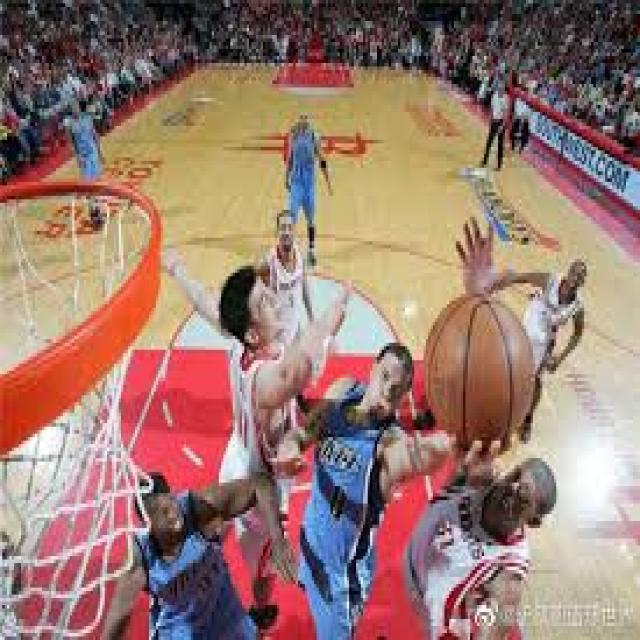rim: (428, 294, 538, 444)
